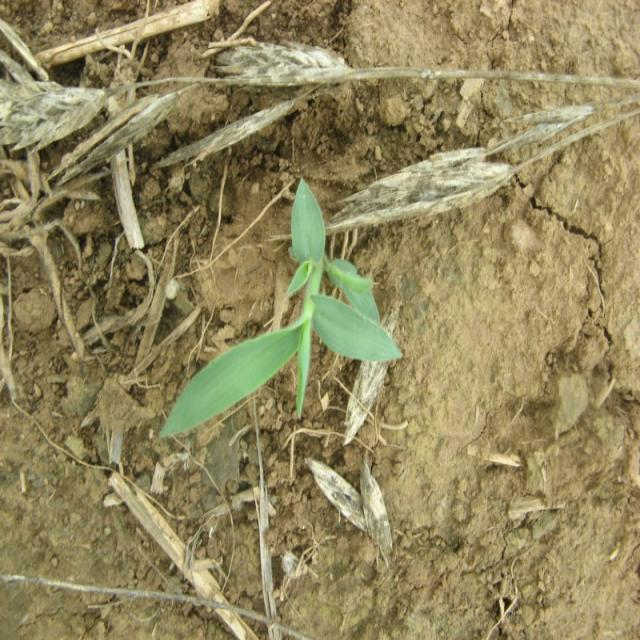bg: (155, 179, 405, 441)
